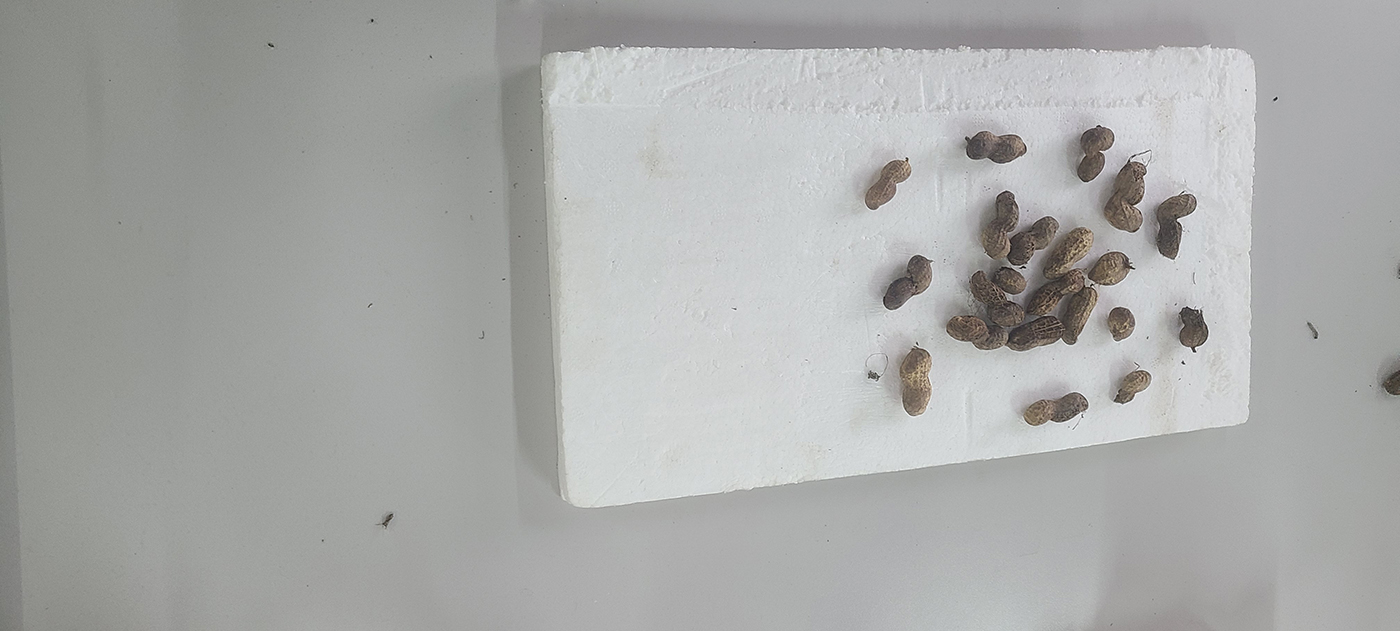l: (970, 270, 1025, 327), (1105, 162, 1147, 232), (1025, 269, 1086, 317), (1156, 193, 1197, 260), (883, 254, 932, 310), (1043, 227, 1095, 278), (982, 190, 1019, 260), (1008, 217, 1059, 265), (864, 160, 912, 210), (946, 315, 1009, 350), (901, 347, 932, 417), (1061, 287, 1098, 345), (1023, 392, 1088, 425), (965, 131, 1027, 164), (1007, 316, 1064, 351), (1087, 251, 1132, 286), (1179, 306, 1209, 348), (1115, 371, 1152, 403), (994, 266, 1028, 295), (1107, 307, 1135, 341), (1081, 127, 1114, 151), (1078, 152, 1105, 181)
